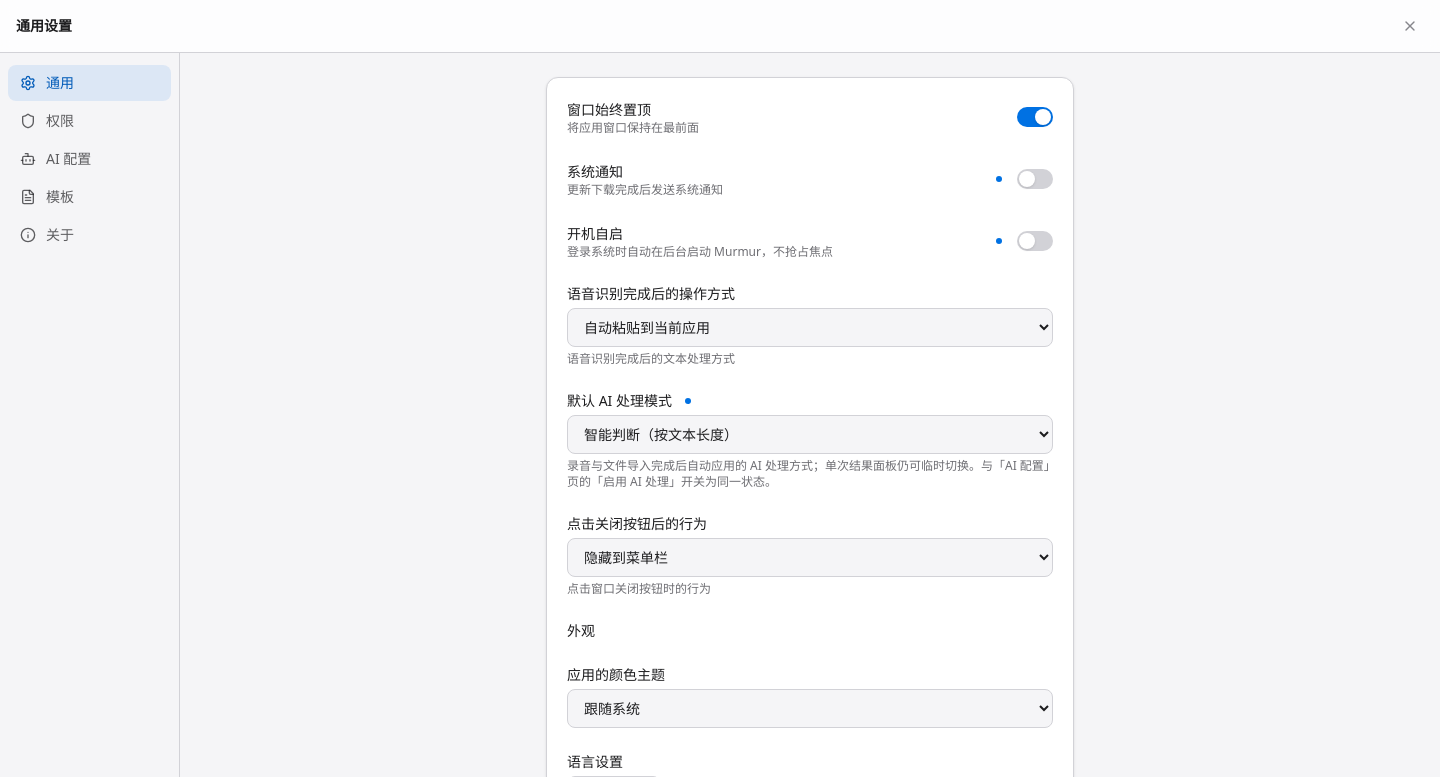
Scenario: [20260816_Test_SettingsPage] SettingsPage component › switches to the AI section via the sidebar
Step 1. Click the tab "AI 配置" → (90, 159), box x1=8 y1=141 x2=171 y2=177
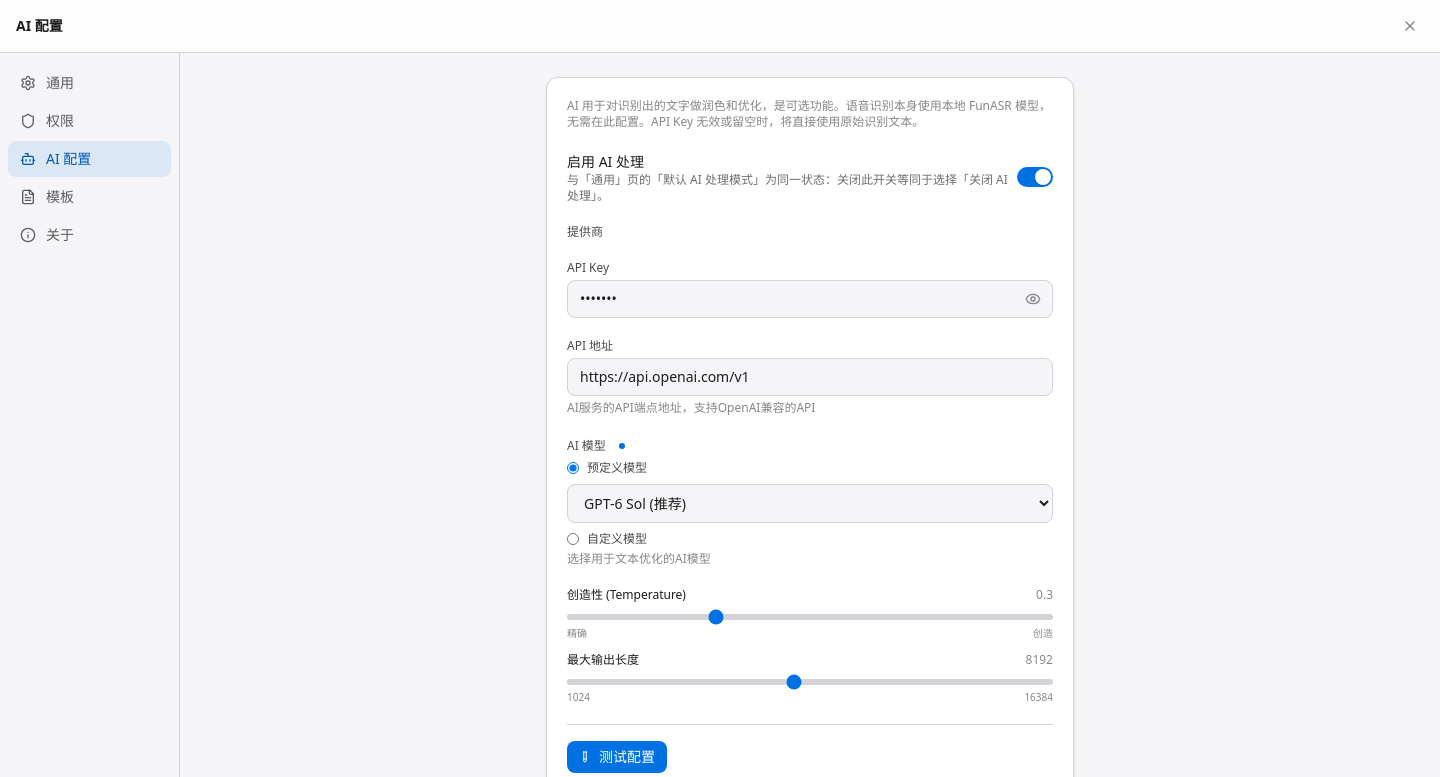
Result: the text "预定义模型" is shown at x1=587 y1=460 x2=647 y2=476
Result: the text "应用的颜色主题" is gone
